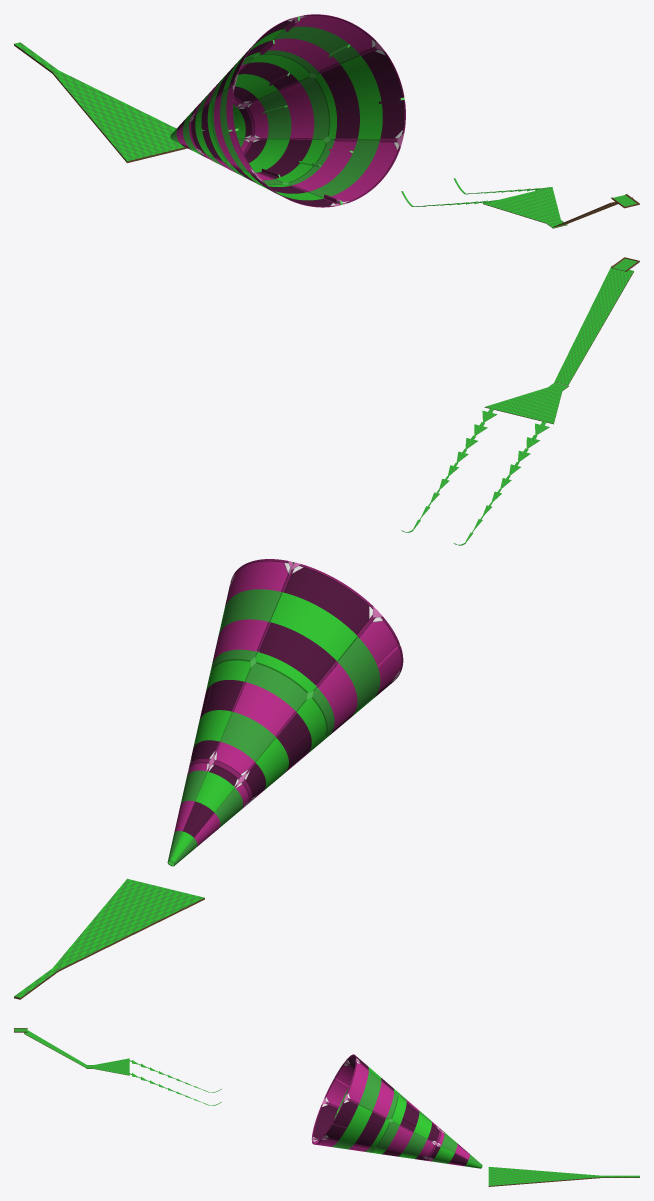
Rendered from Level_Racing01.fbx.
The picture shows the model from 3 angles, top to bottom: view 1: azimuth 30°, elevation 25°; view 2: azimuth 150°, elevation 25°; view 3: azimuth 270°, elevation 25°; orthographic projection. The views are drawn at different scales.
Visible parts, largest first — view 1: Cylinder.002, Cylinder.003, 06_EndPlatform, 03_Triangle_Eaten; view 2: Cylinder.002, Cylinder.003, 06_EndPlatform, 02_Ranp, 03_Triangle_Eaten; view 3: Cylinder.002, Cylinder.003, 06_EndPlatform, 03_Triangle_Eaten, 02_Ranp.
Boxes of the visible parts, x1=… form: Cylinder.002: x1=176, y1=14, x2=405, y2=207; Cylinder.003: x1=170, y1=26, x2=382, y2=200; 06_EndPlatform: x1=14, y1=42, x2=187, y2=163; 03_Triangle_Eaten: x1=483, y1=187, x2=567, y2=228; Cylinder.002: x1=174, y1=559, x2=403, y2=846; Cylinder.003: x1=167, y1=589, x2=380, y2=866; 06_EndPlatform: x1=14, y1=878, x2=204, y2=999; 02_Ranp: x1=554, y1=265, x2=633, y2=385; 03_Triangle_Eaten: x1=484, y1=382, x2=568, y2=424; Cylinder.002: x1=311, y1=1054, x2=469, y2=1166; Cylinder.003: x1=332, y1=1066, x2=482, y2=1168; 06_EndPlatform: x1=488, y1=1167, x2=639, y2=1186; 03_Triangle_Eaten: x1=86, y1=1058, x2=129, y2=1075; 02_Ranp: x1=24, y1=1030, x2=86, y2=1068.
Bounding box in the file's own units: 48062 × 79217 × 305004.
